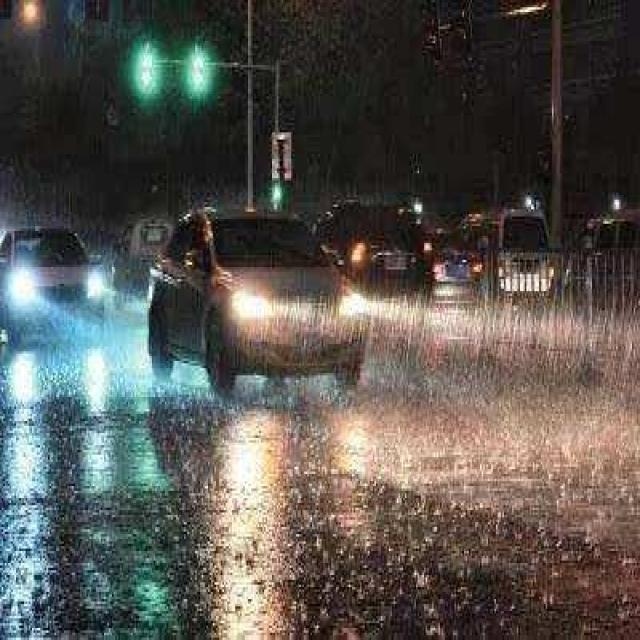car: (144, 204, 373, 380), (0, 223, 102, 339), (316, 200, 414, 294), (461, 209, 552, 301), (416, 224, 480, 313)
